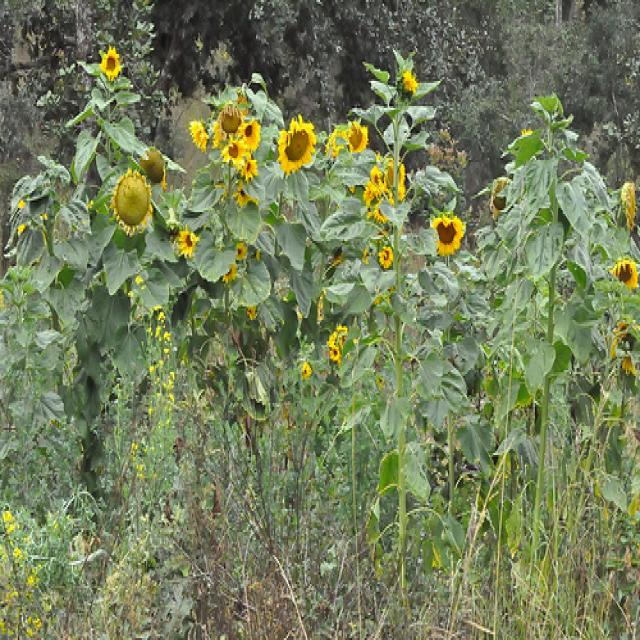sunflower: (103, 168, 160, 246), (272, 115, 318, 183), (613, 179, 640, 243), (432, 211, 462, 256), (138, 146, 165, 185), (99, 43, 124, 85), (610, 259, 640, 293), (346, 118, 370, 160), (190, 120, 212, 158), (238, 119, 261, 152), (222, 142, 247, 169)
